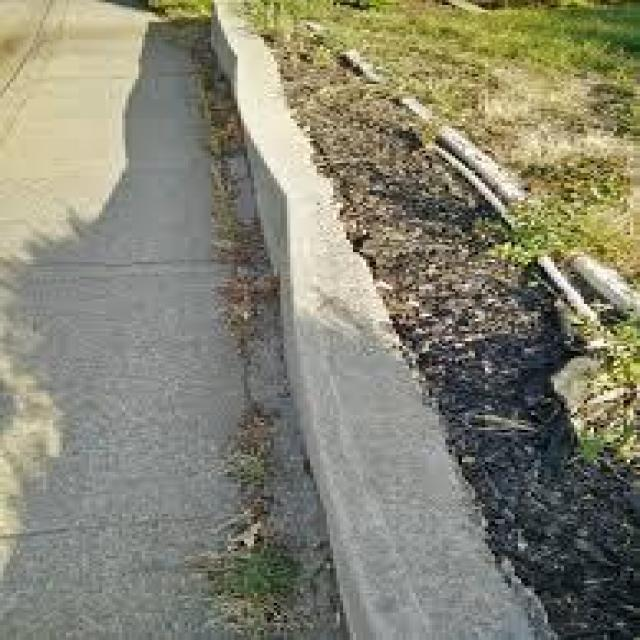curb: (236, 202, 418, 457), (311, 439, 512, 640), (190, 10, 302, 179)
